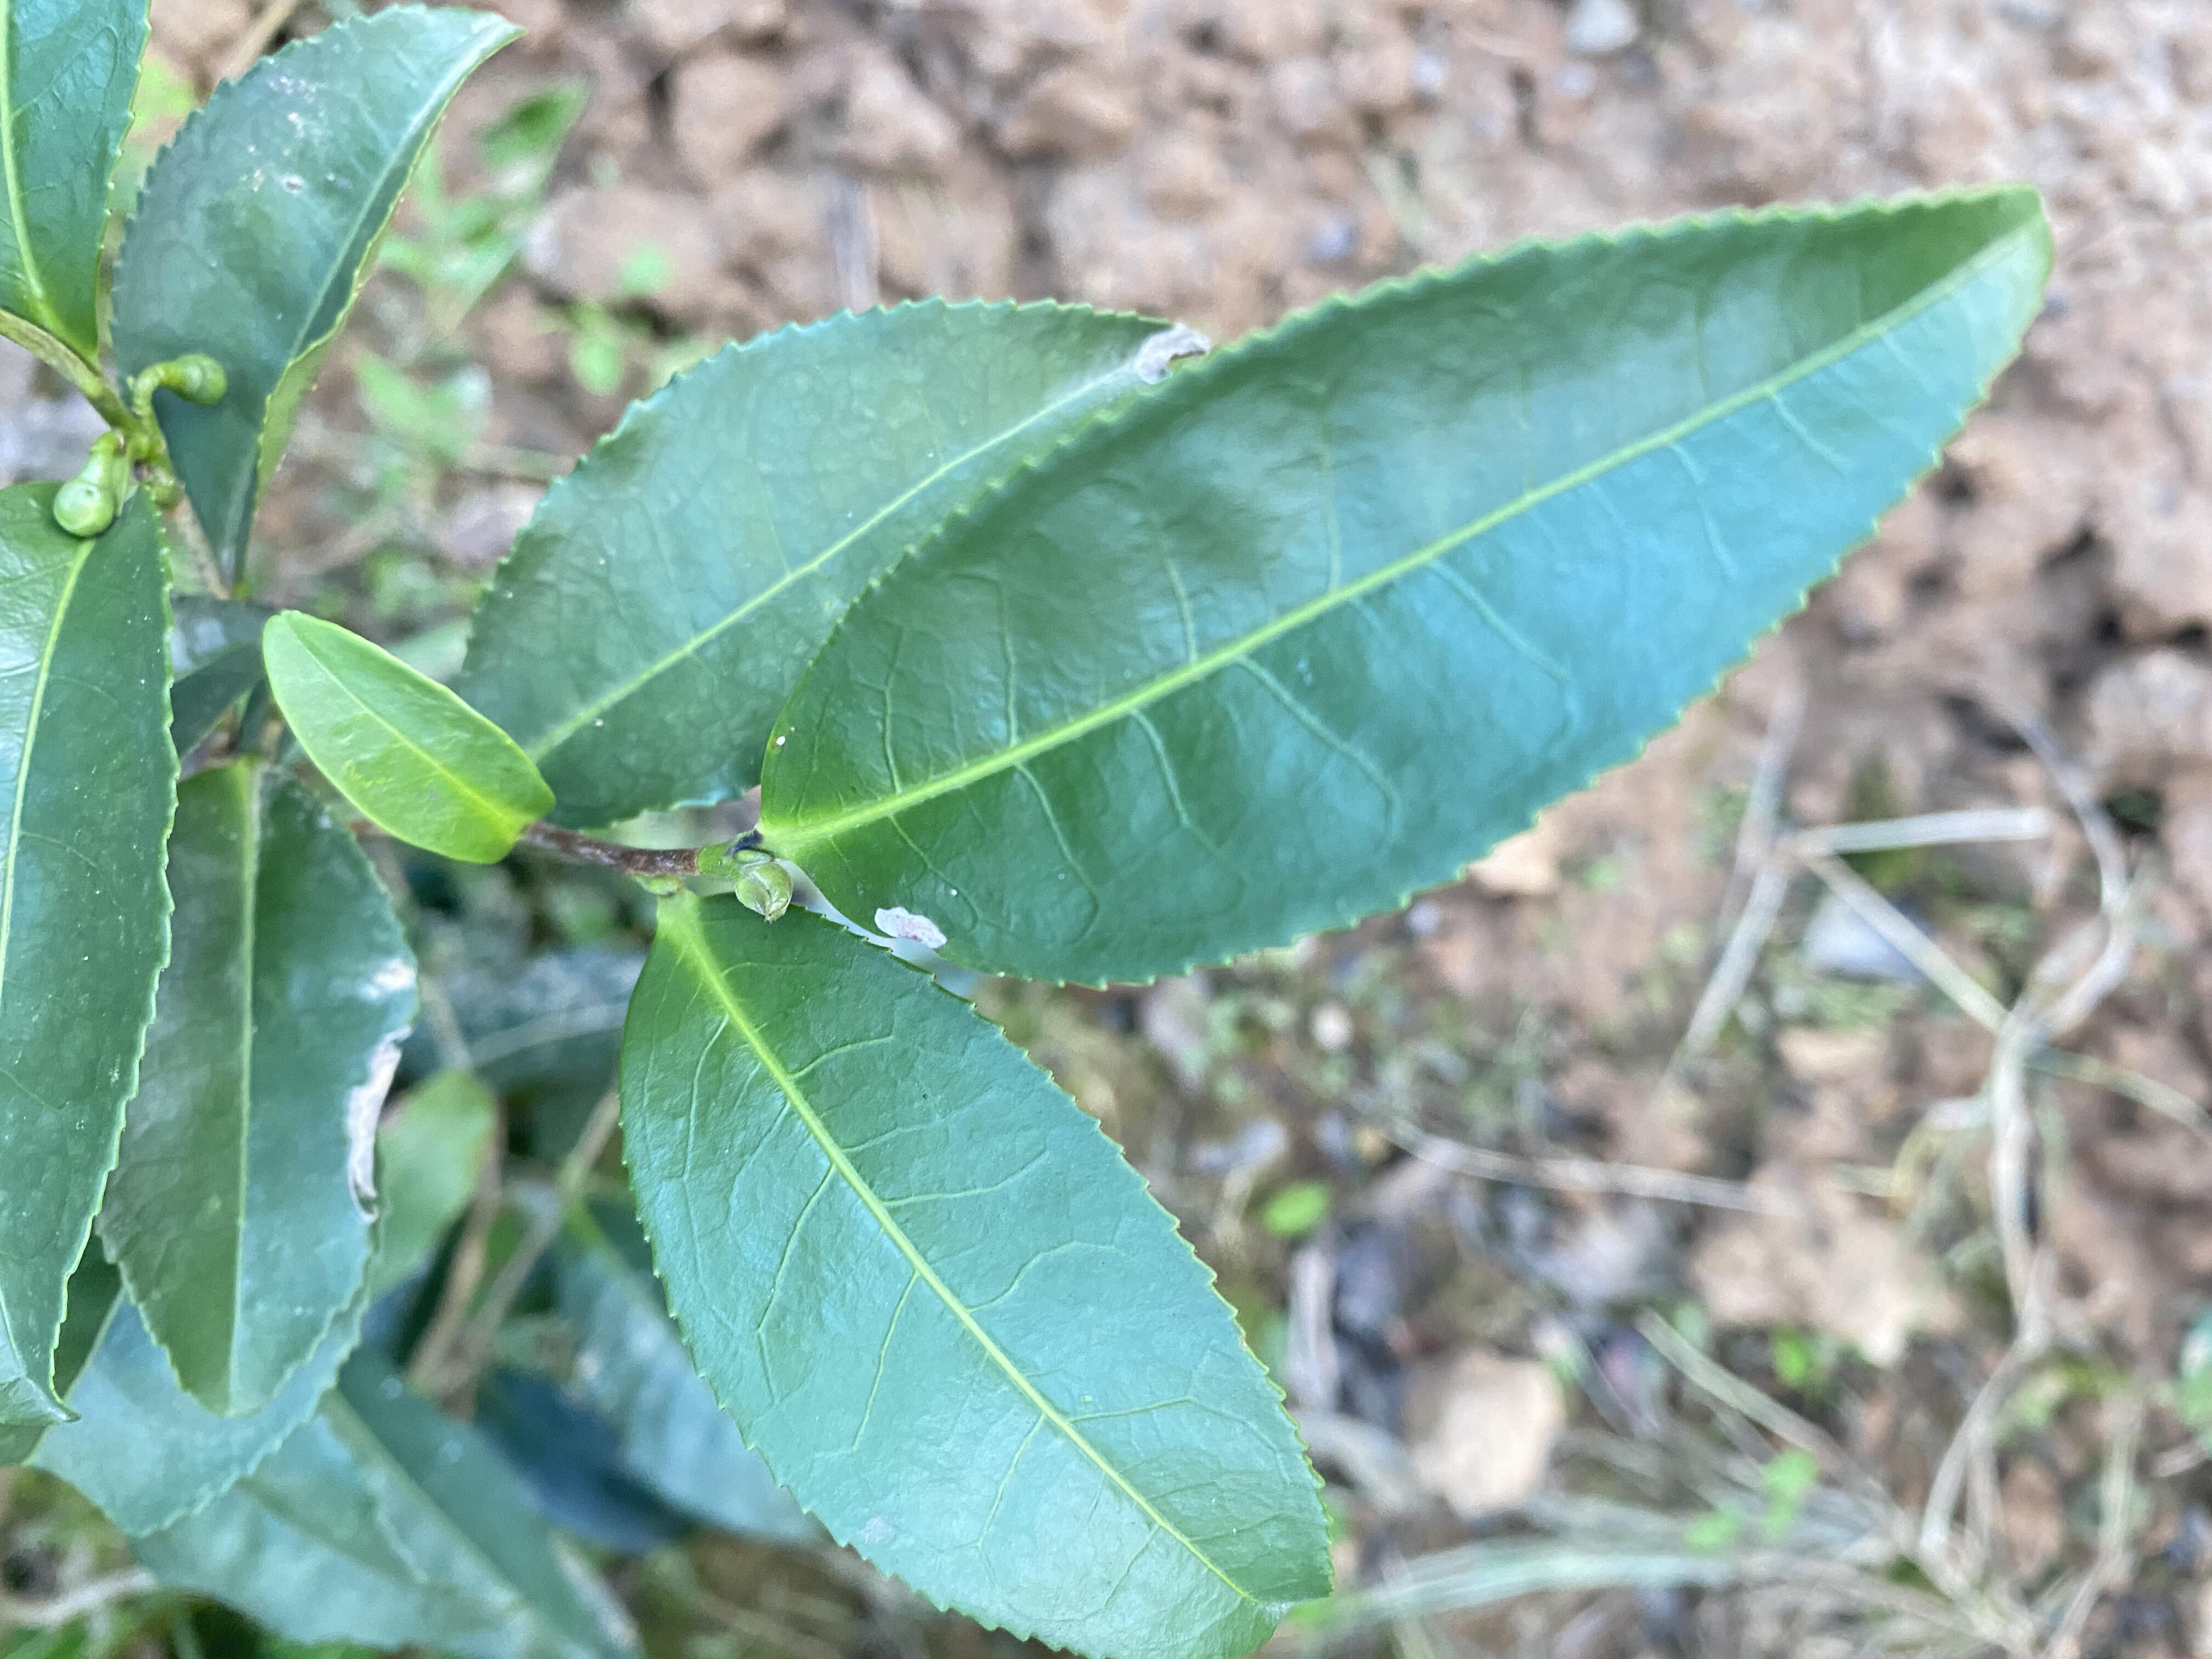healthy: (617, 897, 1332, 1657), (260, 608, 557, 870)
tanju_low: (763, 185, 2054, 993), (458, 295, 1209, 838), (94, 760, 420, 1417)
